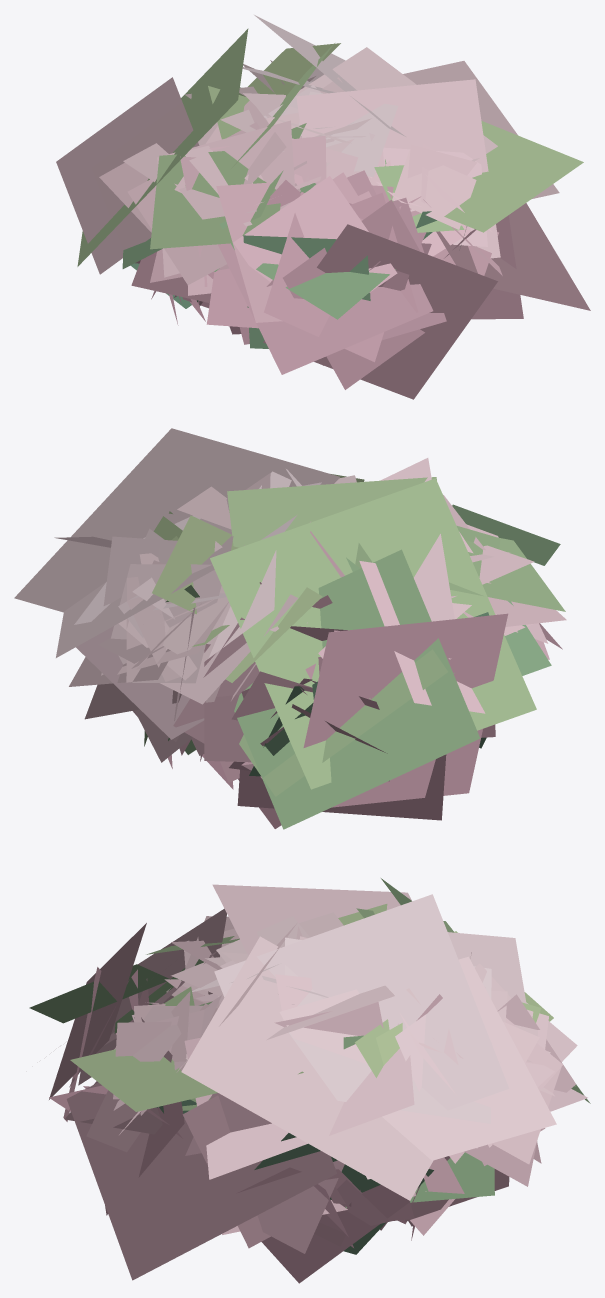
File: wild_cherry_v4.glb
The picture shows the model from 3 angles, top to bottom: view 1: azimuth 30°, elevation 25°; view 2: azimuth 150°, elevation 25°; view 3: azimuth 270°, elevation 25°; orthographic projection. The views are drawn at different scales.
Parts seen in each view (by area): view 1: far, near; view 2: far, near; view 3: far, near.
Boxes of the visible parts, x1,y1,x2,y2 form: far: (56,15,590,399); near: (123,43,523,365); far: (14,428,565,829); near: (84,469,566,789); far: (63,878,590,1280); near: (29,904,577,1283).
Size of the model in its own units: 14.41 by 9.3 by 13.95.
